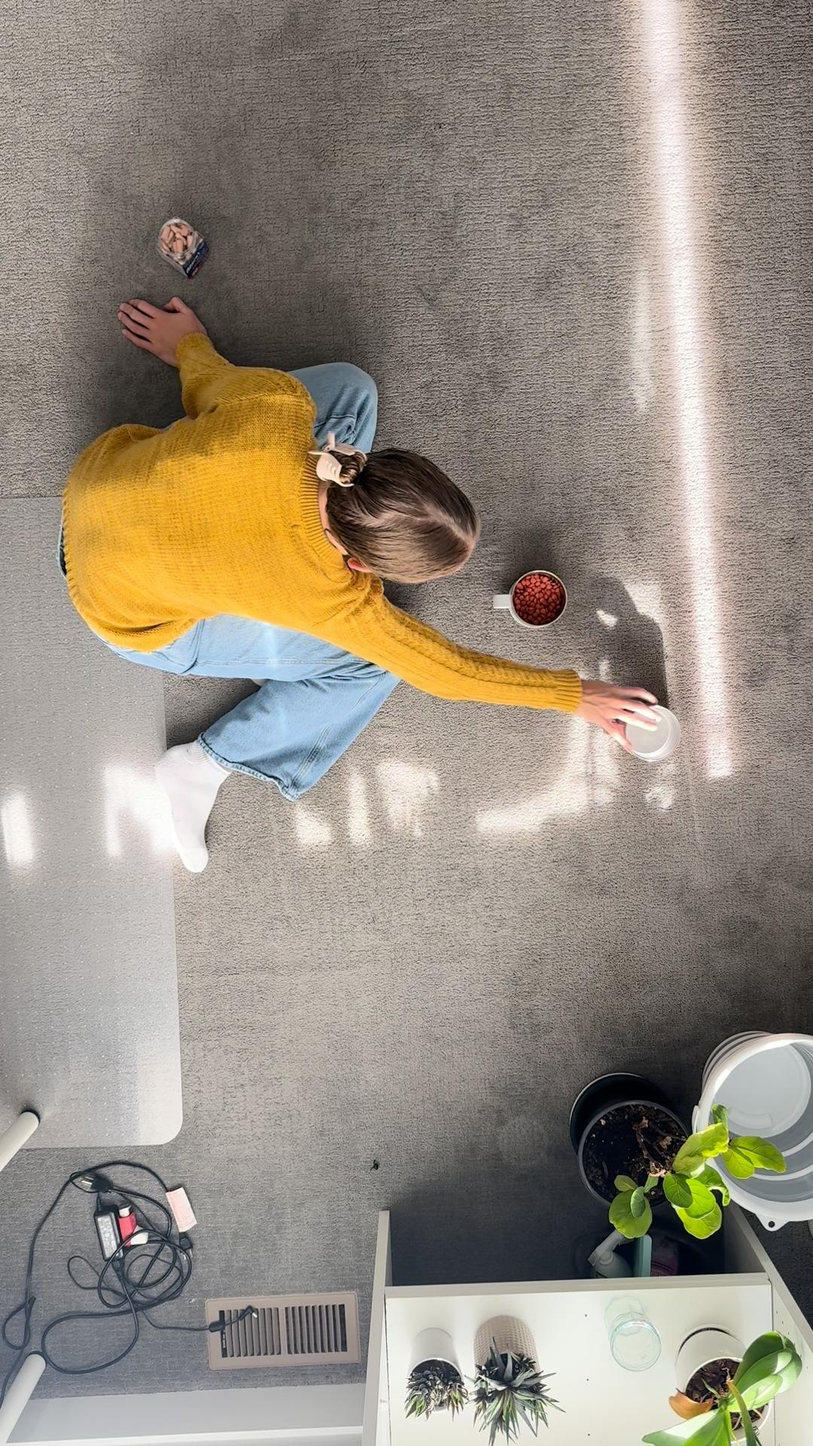IBC: (610, 693, 703, 780), (484, 552, 575, 636)
